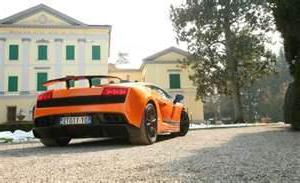Car: (24, 70, 201, 155)
